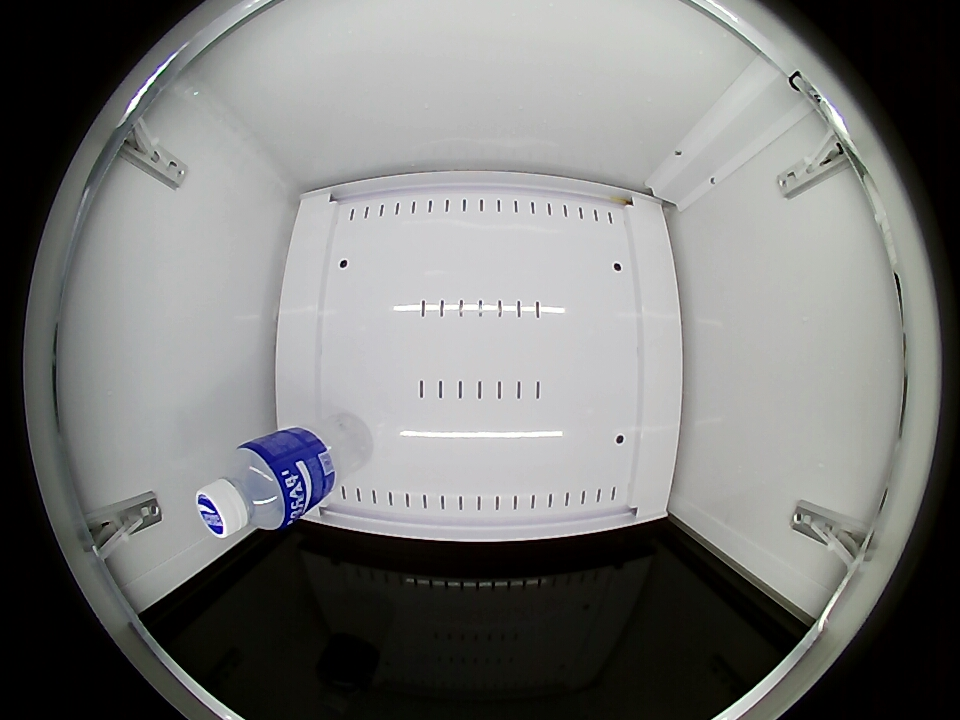baokuangli: (197, 441, 299, 538)
